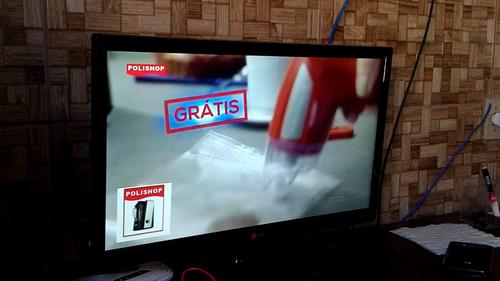Polishop #1: (117, 181, 172, 241)
